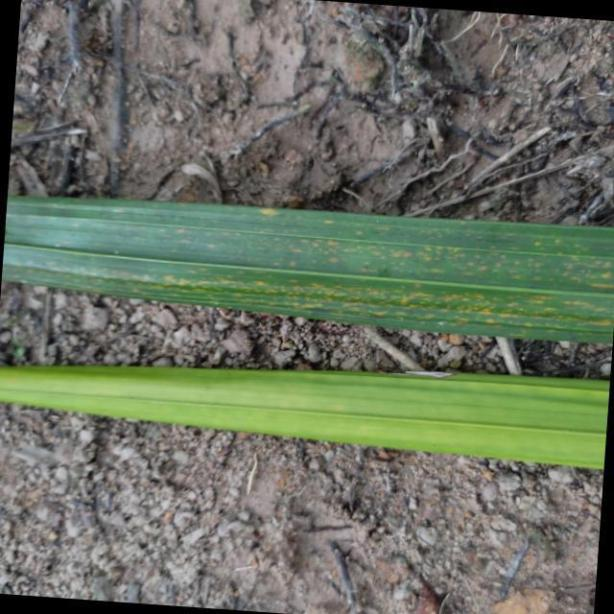nitrogen: (0, 189, 614, 347), (0, 353, 614, 470)
